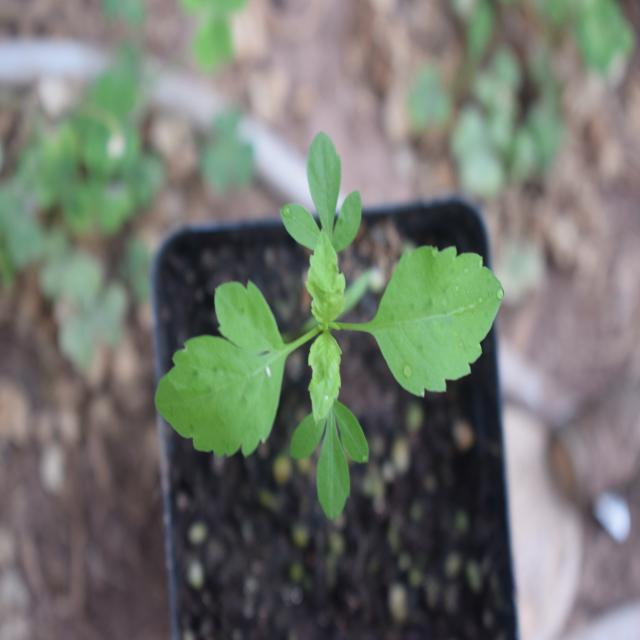Bidens pilosa: (141, 147, 518, 509)
